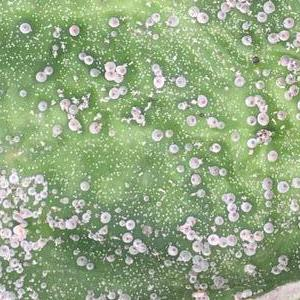Femea: (100, 212, 109, 222), (104, 62, 113, 71), (153, 130, 162, 139), (264, 223, 272, 233), (241, 203, 251, 211), (225, 193, 233, 203), (198, 95, 205, 106), (35, 71, 43, 80), (198, 13, 207, 21), (258, 115, 266, 124), (244, 97, 253, 105), (218, 237, 226, 246), (18, 24, 28, 31), (279, 180, 286, 190), (169, 245, 176, 255), (208, 235, 216, 243), (77, 256, 85, 264), (69, 26, 76, 35), (234, 77, 243, 84), (239, 228, 246, 237), (123, 234, 132, 241), (44, 66, 51, 74), (153, 78, 161, 85), (246, 116, 253, 124), (229, 211, 236, 219), (117, 66, 124, 73), (108, 89, 115, 96), (227, 204, 234, 211), (35, 176, 42, 183), (258, 106, 267, 111), (259, 98, 265, 105), (86, 262, 92, 269), (254, 96, 259, 103), (41, 190, 46, 196), (150, 293, 155, 298)
Linfa: (131, 207, 144, 216), (99, 278, 109, 287), (57, 176, 68, 184), (91, 153, 102, 161), (146, 149, 157, 157), (130, 200, 142, 207), (167, 177, 175, 187), (213, 247, 221, 257), (167, 268, 177, 276), (158, 225, 169, 232), (84, 142, 95, 149), (126, 275, 135, 283), (47, 176, 56, 184), (118, 197, 127, 205), (161, 284, 170, 292), (195, 216, 202, 226), (114, 159, 122, 167), (147, 268, 155, 276), (171, 205, 178, 214), (136, 275, 145, 282), (97, 189, 106, 196), (141, 147, 150, 154), (163, 161, 173, 167), (183, 207, 191, 214), (124, 162, 131, 170), (148, 217, 155, 225), (246, 187, 254, 194), (126, 284, 135, 290), (205, 182, 214, 188), (201, 218, 207, 227), (238, 194, 247, 200), (102, 142, 108, 151), (181, 182, 188, 189), (108, 187, 115, 194), (208, 209, 215, 216), (135, 282, 143, 288), (111, 198, 117, 206), (178, 195, 183, 204), (203, 207, 208, 216), (145, 206, 152, 212), (229, 178, 236, 184), (82, 148, 88, 155), (160, 212, 168, 217), (141, 141, 148, 146), (138, 170, 144, 175), (134, 218, 140, 223), (203, 227, 209, 230)
Macho: (109, 234, 119, 240)
